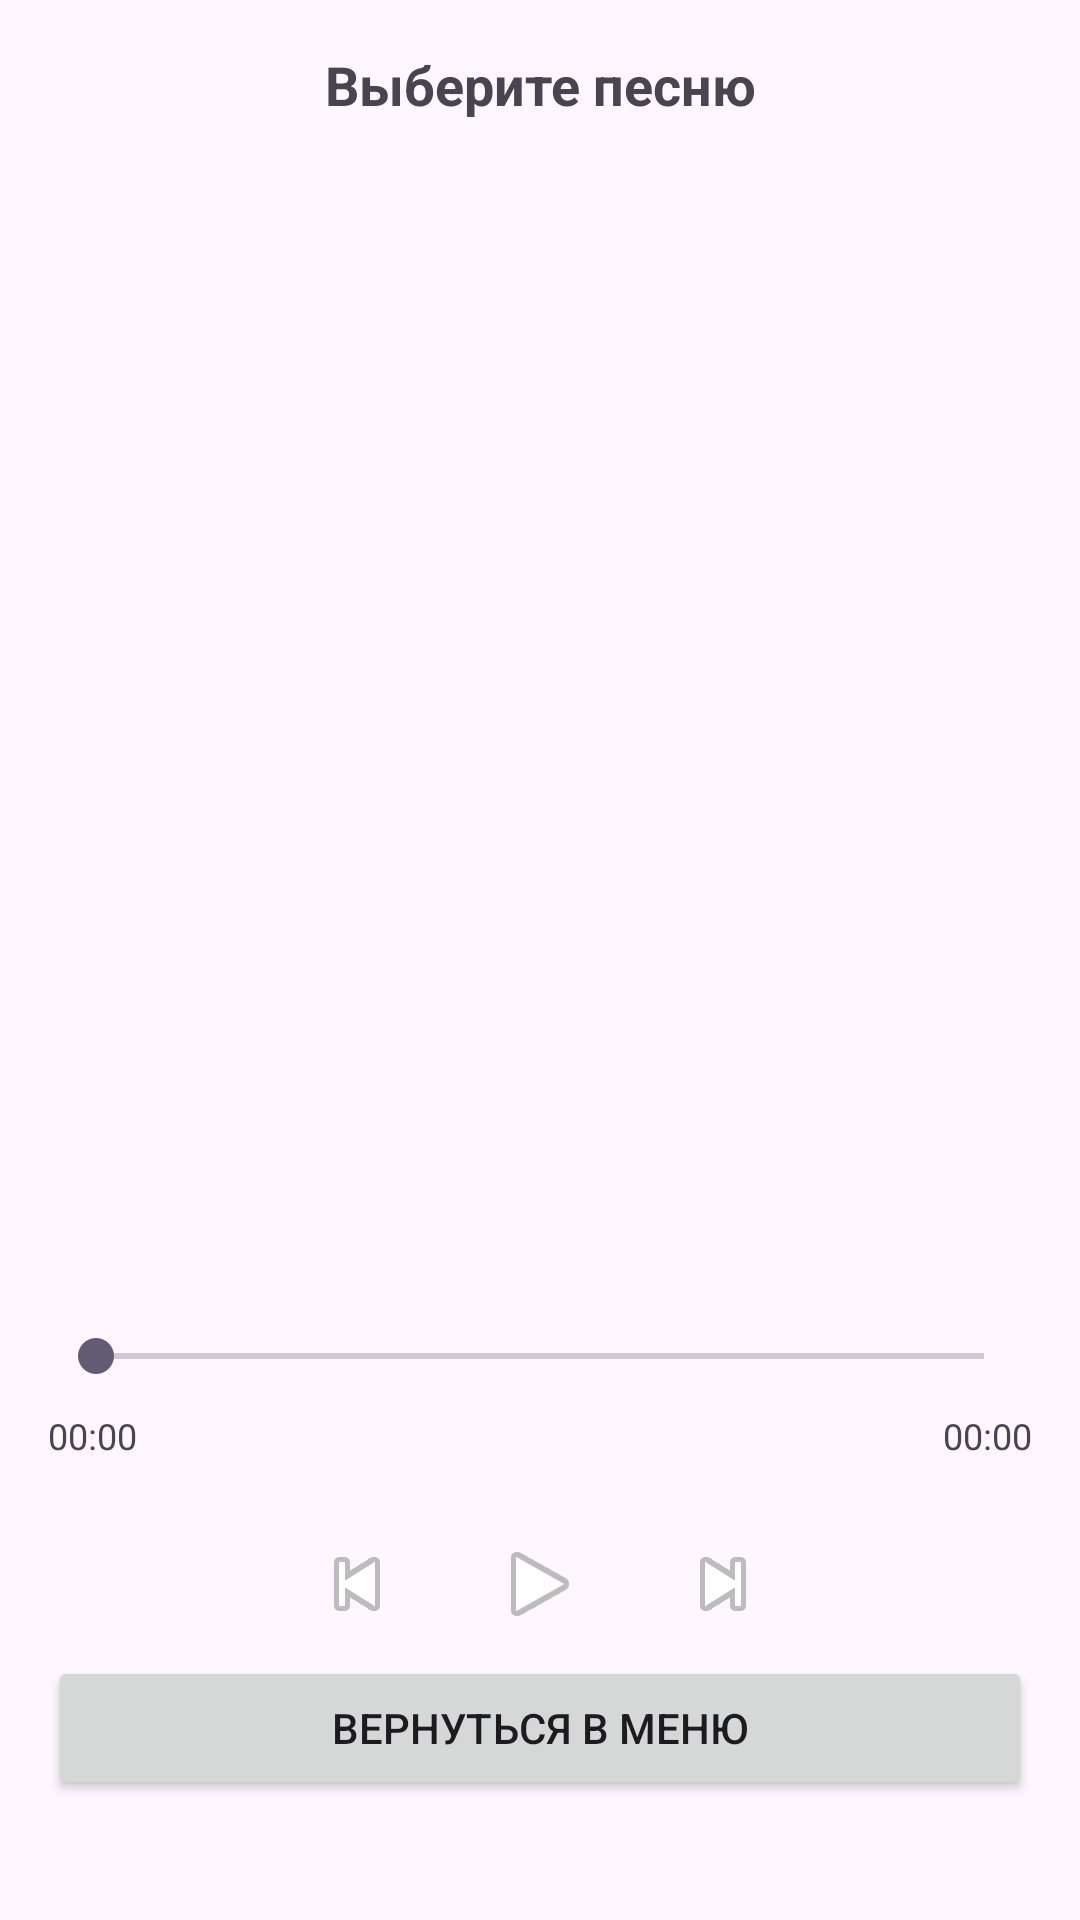

Locate icon controls on the screen. Image size 1080 x 1920, boxes as box=[x1, y1, x2, y2].
next: box=[700, 1557, 746, 1611]
play: box=[511, 1552, 569, 1616]
previous: box=[334, 1557, 380, 1611]
